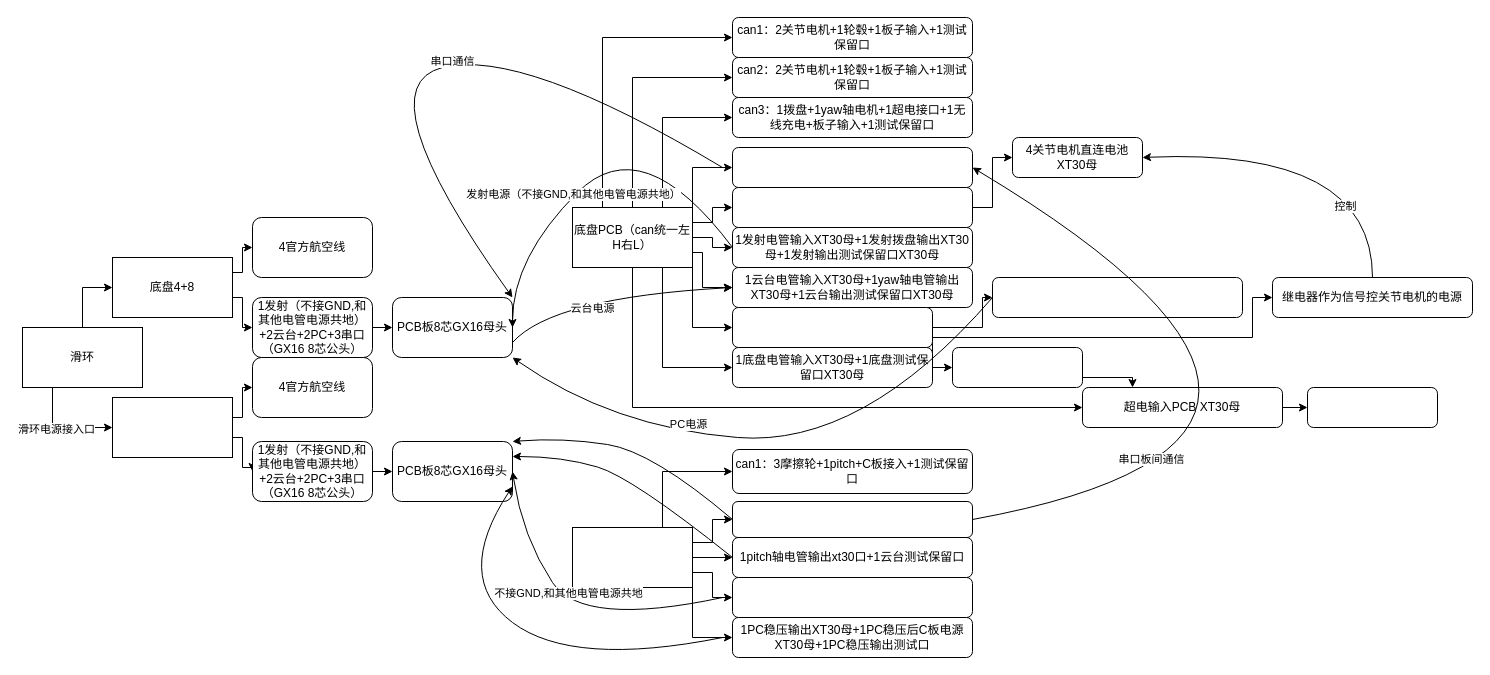
The diagram is 1490 pixels wide and 675 high, and some of its shapes have lost their labels. The centre of each missing label's shape, as x and y in pixels:
"1PCB输入超电 XT30母" goes at (1017,367).
"1PC电管输入XT30母+1PC测试保留口XT30母" goes at (832,327).
"1串口传至C板" goes at (852,519).
"1串口传至妙板" goes at (852,167).
"1电池供电XT60母+1电管输出供电XT60母+1电池测试保留口" goes at (852,207).
"2经稳压后小电脑电源XT30母（一个给滑环一个给妙板供电）" goes at (1117,297).
"2轮毂3508电机XT30母" goes at (1372,407).
"3发射摩擦轮电管输出XT30母+1荧光充能电管输出XT32母+1发射测试保留口" goes at (852,597).
"云台4+8" goes at (172,427).
"云台PCB（can统一左H右L）" goes at (632,557).
